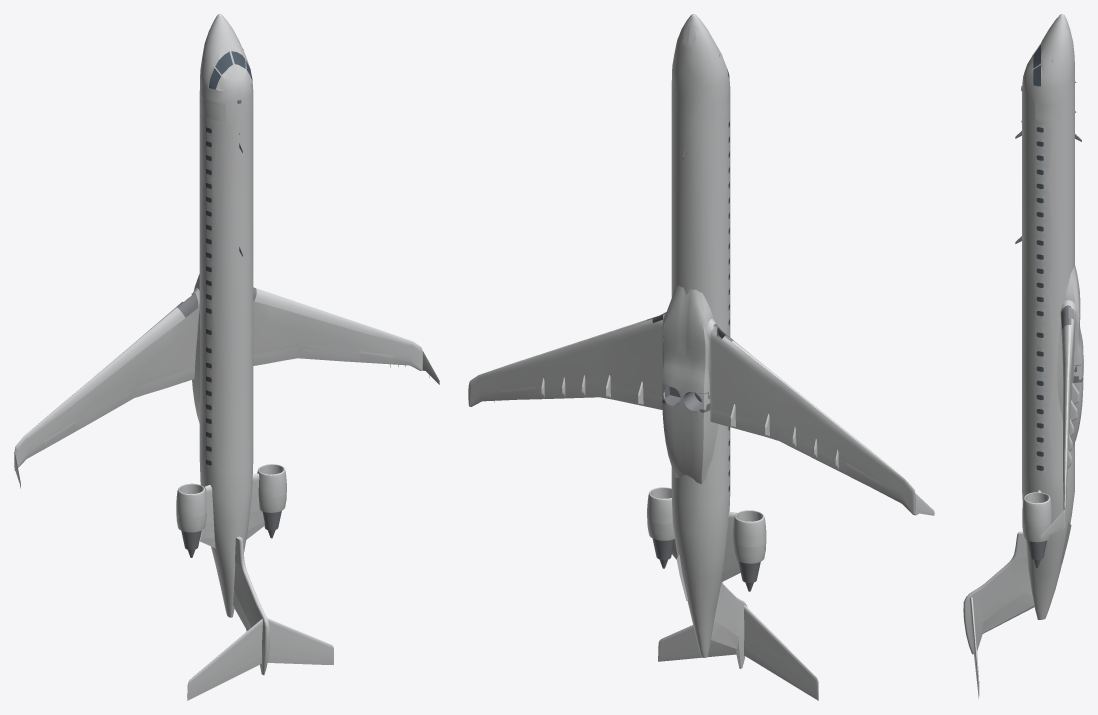
3 views of the same model, side by side, from view 1: azimuth 30°, elevation 25°; view 2: azimuth 150°, elevation 25°; view 3: azimuth 270°, elevation 25° (orthographic). The views are drawn at different scales.
Visible parts, largest first — view 1: CRJ9; view 2: CRJ9; view 3: CRJ9.
Part boxes in pixels (x1,y1,x2,y2): CRJ9: [14, 14, 439, 700]; CRJ9: [468, 14, 934, 700]; CRJ9: [963, 14, 1083, 698].
Size of the model in its own units: 24.85 by 36.2 by 6.06.
